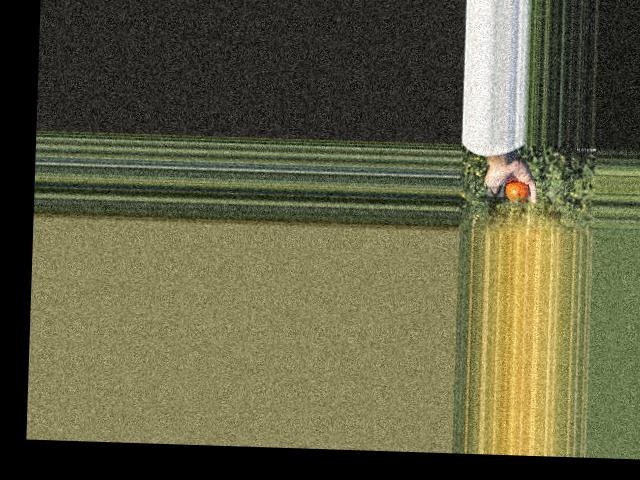tomato: (506, 181, 530, 202)
